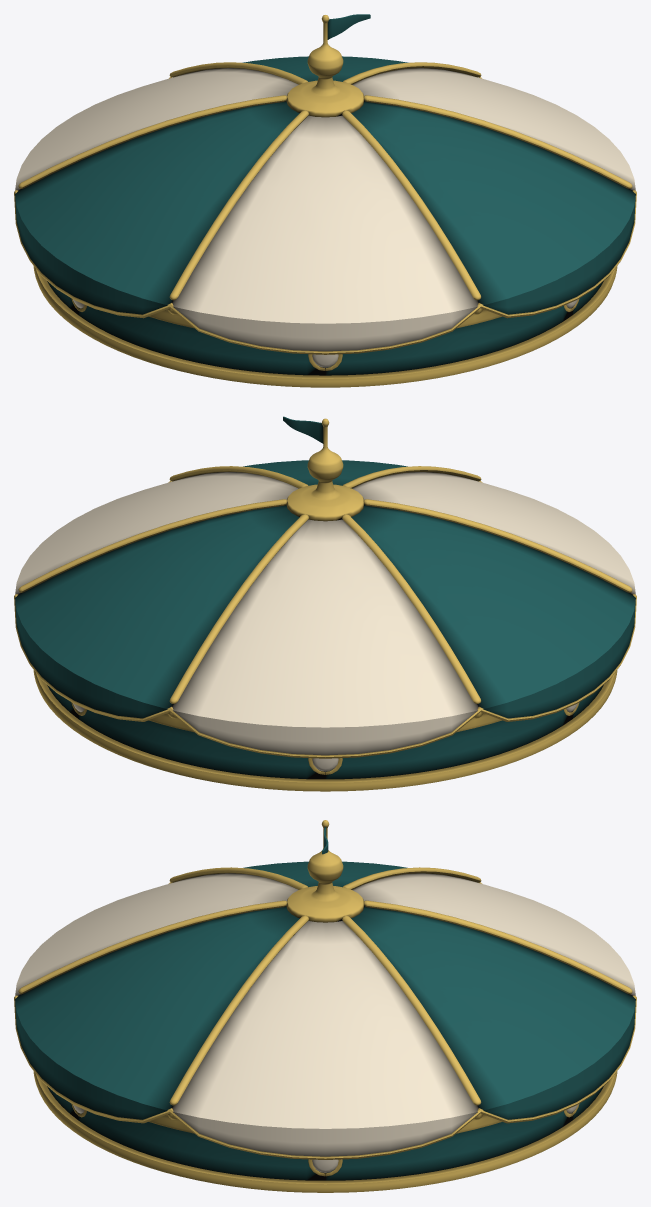
The model's file is carousel_canopy.glb.
3 renders of one model, top to bottom at view 1: azimuth 30°, elevation 25°; view 2: azimuth 150°, elevation 25°; view 3: azimuth 270°, elevation 25°, orthographic.
Parts seen in each view (by area): view 1: CarouselCanopy_Roof, CarouselCanopy_Frieze, CarouselCanopy_Rib, CarouselCanopy_Finial, CarouselCanopy_Flag; view 2: CarouselCanopy_Roof, CarouselCanopy_Frieze, CarouselCanopy_Rib, CarouselCanopy_Finial, CarouselCanopy_Flag; view 3: CarouselCanopy_Roof, CarouselCanopy_Frieze, CarouselCanopy_Rib, CarouselCanopy_Finial.
Boxes of the visible parts, x1,y1,x2,y2 form: CarouselCanopy_Roof: [15, 56, 635, 351]; CarouselCanopy_Frieze: [33, 266, 617, 387]; CarouselCanopy_Rib: [14, 62, 636, 354]; CarouselCanopy_Finial: [286, 15, 364, 117]; CarouselCanopy_Flag: [327, 14, 370, 39]; CarouselCanopy_Roof: [15, 460, 635, 755]; CarouselCanopy_Frieze: [33, 670, 617, 791]; CarouselCanopy_Rib: [14, 466, 636, 758]; CarouselCanopy_Finial: [286, 418, 364, 521]; CarouselCanopy_Flag: [283, 416, 323, 443]; CarouselCanopy_Roof: [15, 861, 635, 1156]; CarouselCanopy_Frieze: [33, 1071, 617, 1192]; CarouselCanopy_Rib: [14, 867, 636, 1159]; CarouselCanopy_Finial: [286, 820, 364, 922].
Size of the model in its own units: 0.1354 by 0.06 by 0.1354.
